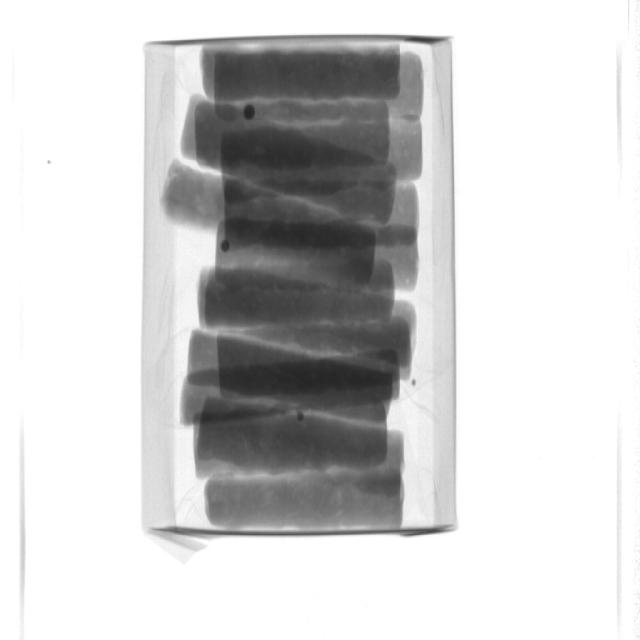ym: (244, 104, 257, 121), (221, 242, 231, 254), (297, 414, 304, 422), (413, 380, 418, 386)
